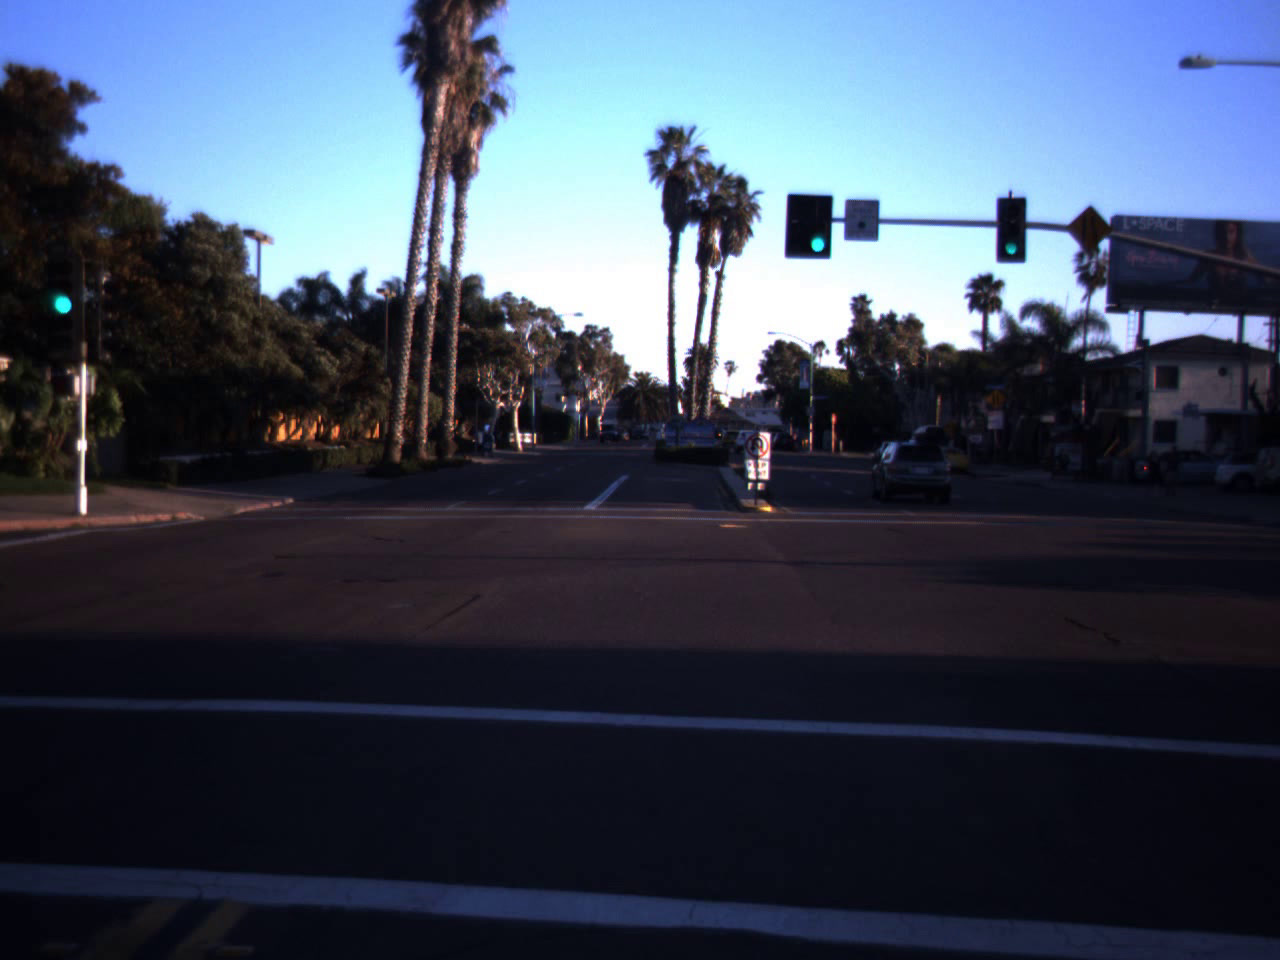go: (41, 241, 86, 321), (800, 200, 836, 255), (1001, 227, 1022, 257)
